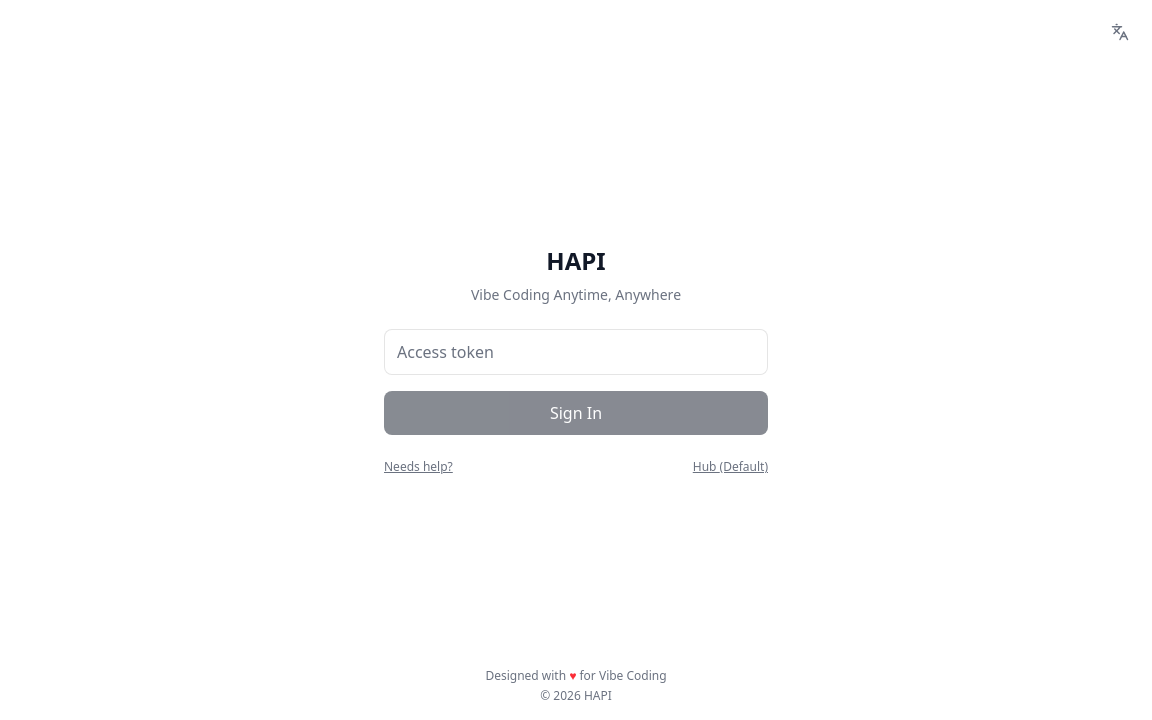
Test: LoginPrompt › does not clear first hub URL edit when hub URL required
Type "token" into the password field with placeholder "Access token" at (576, 352), box left=384, top=329, right=768, bottom=375
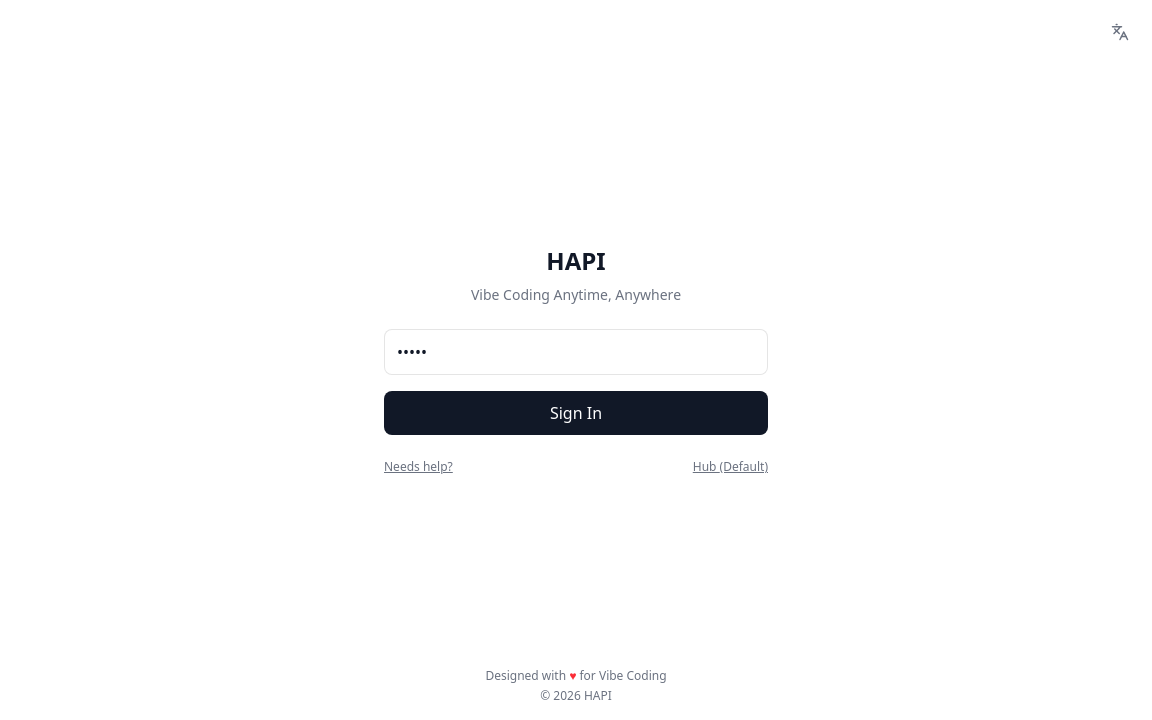
Click the button "Sign In" at (576, 413), box left=384, top=391, right=768, bottom=435
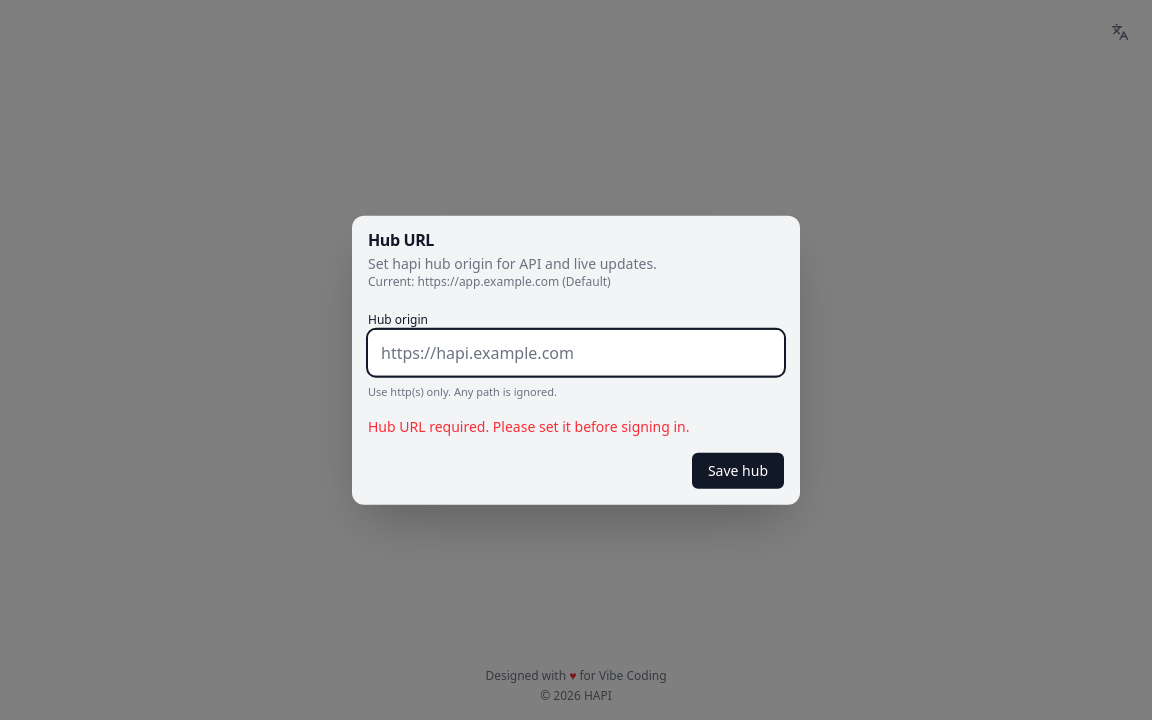
Now the text "Hub URL required. Please set it before signing in." is shown, box left=368, top=416, right=690, bottom=435
Type "https://hub.example.com" into the field with placeholder "https://hapi.example.com" at (576, 353), box left=368, top=330, right=784, bottom=376
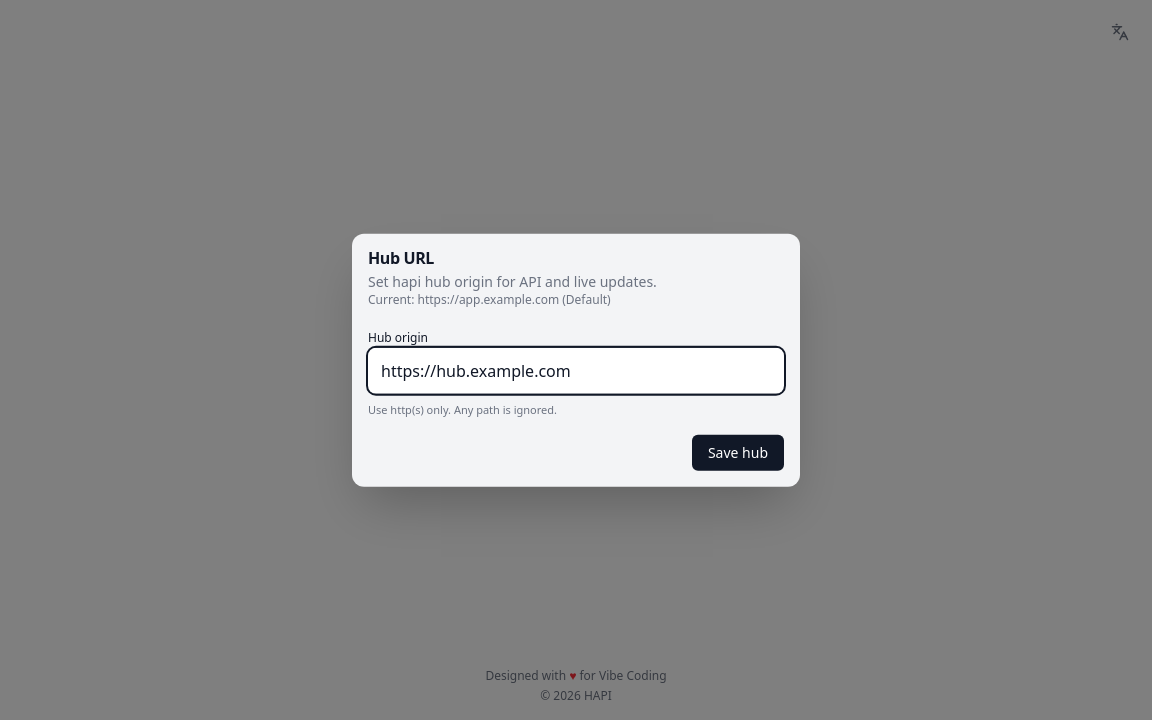
Now the text "Hub URL required. Please set it before signing in." is gone
